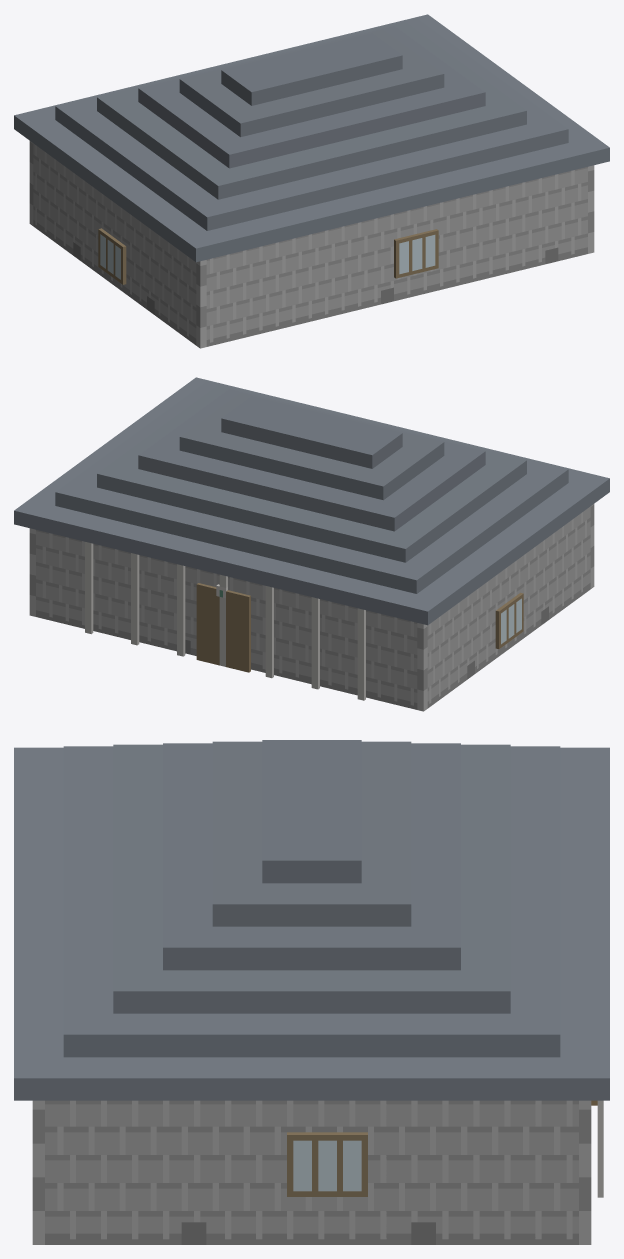
File: gran_mercado_03.glb
3 renders of one model, top to bottom at view 1: azimuth 30°, elevation 25°; view 2: azimuth 150°, elevation 25°; view 3: azimuth 270°, elevation 25°, orthographic. The views are drawn at different scales.
Parts seen in each view (by area): view 1: gran_mercado_03; view 2: gran_mercado_03; view 3: gran_mercado_03.
Boxes of the visible parts, bbox=[...] form: gran_mercado_03: bbox=[14, 14, 609, 348]; gran_mercado_03: bbox=[14, 377, 609, 711]; gran_mercado_03: bbox=[14, 740, 609, 1244].
Size of the model in its own units: 12.6 by 5.1 by 9.6.
